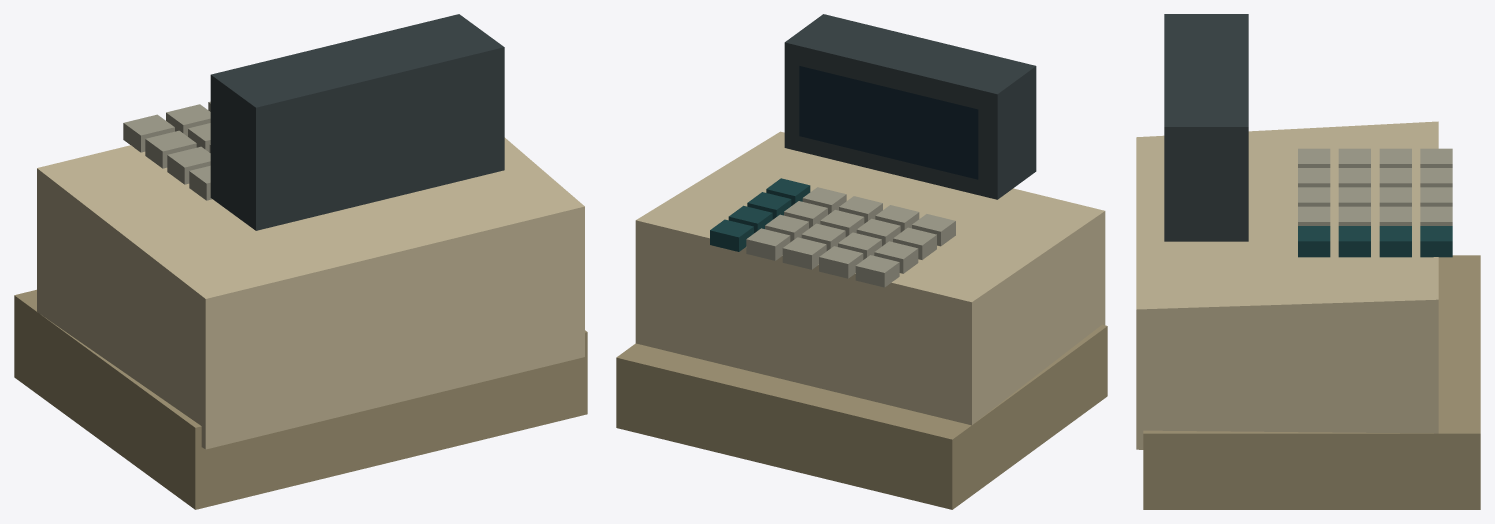
Rendered from credits_till.obj.
3 renders of one model, left to right at view 1: azimuth 30°, elevation 25°; view 2: azimuth 150°, elevation 25°; view 3: azimuth 270°, elevation 25°, orthographic. The views are drawn at different scales.
Parts seen in each view (by area): view 1: till_body, readout_housing, drawer, till_keys; view 2: till_body, drawer, readout_housing, till_keys, runtime_credits; view 3: till_body, drawer, readout_housing, till_keys.
Boxes of the visible parts, x1,y1,x2,y2 form: till_body: [37, 137, 584, 449]; readout_housing: [210, 14, 504, 230]; drawer: [14, 289, 587, 509]; till_keys: [123, 101, 212, 200]; till_body: [635, 131, 1105, 425]; drawer: [616, 324, 1107, 509]; readout_housing: [784, 14, 1036, 199]; till_keys: [710, 178, 955, 287]; runtime_credits: [799, 66, 978, 179]; till_body: [1136, 121, 1438, 449]; drawer: [1143, 255, 1480, 509]; readout_housing: [1164, 14, 1248, 241]; till_keys: [1298, 148, 1452, 257].
Size of the model in its own units: 0.6 by 0.55 by 0.49.
